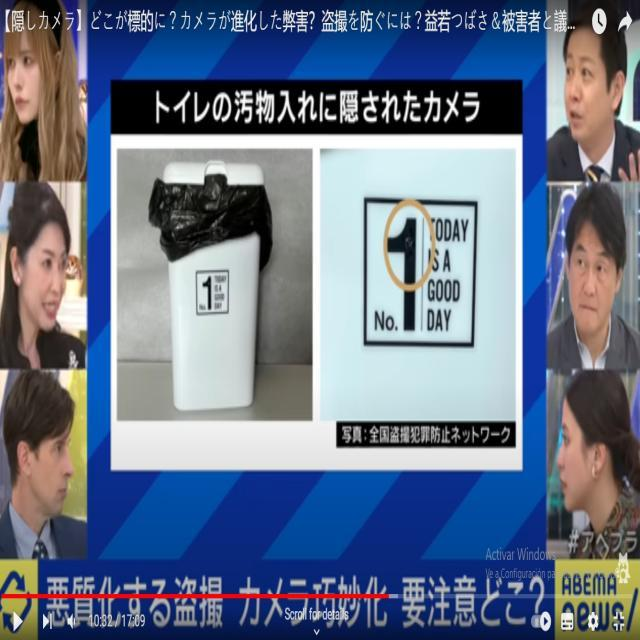hidden camera: (405, 233, 415, 250)
